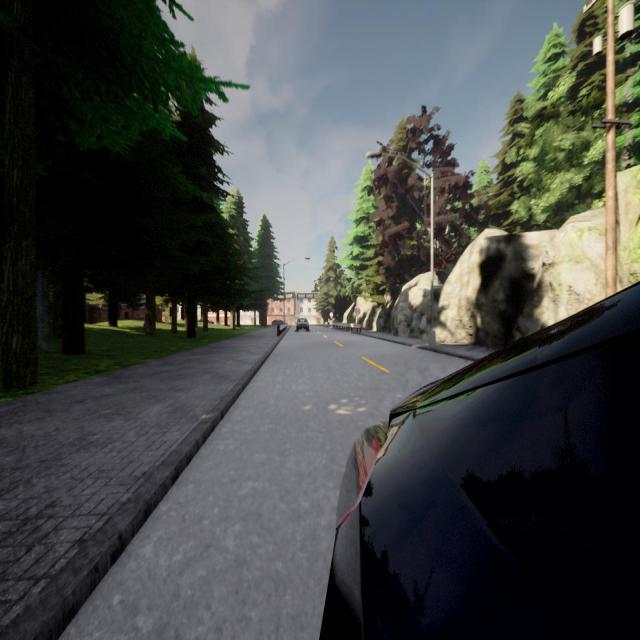Traffic_Signs: (355, 307, 361, 315), (329, 312, 334, 318)
Vehicle: (321, 284, 640, 640), (295, 318, 310, 332), (272, 318, 288, 324)
